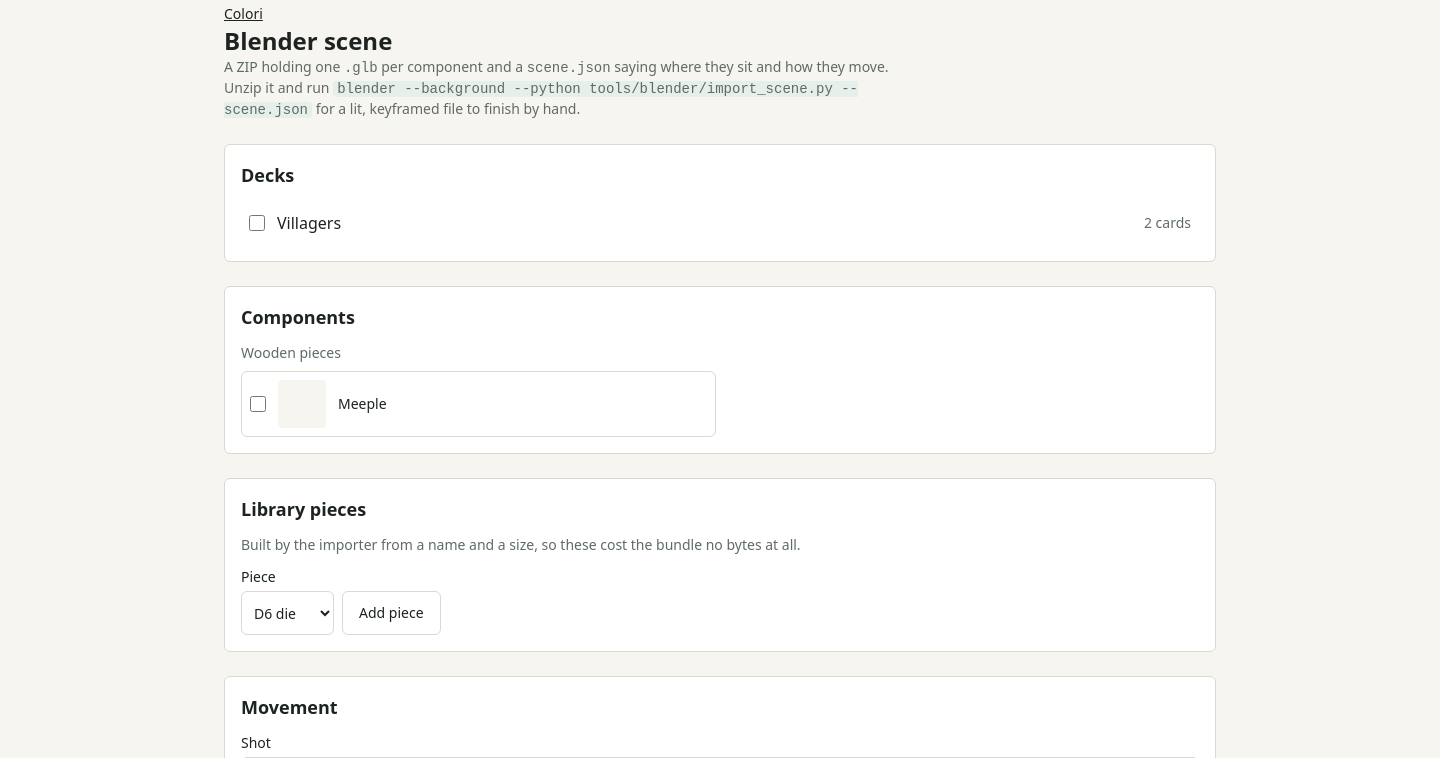
Scene export screen › picks a component by name and counts it
The width and height of the screenshot is (1440, 758).
Click the checkbox labelled "Meeple" at (258, 404), box [250, 396, 266, 412]
(page scrolled)
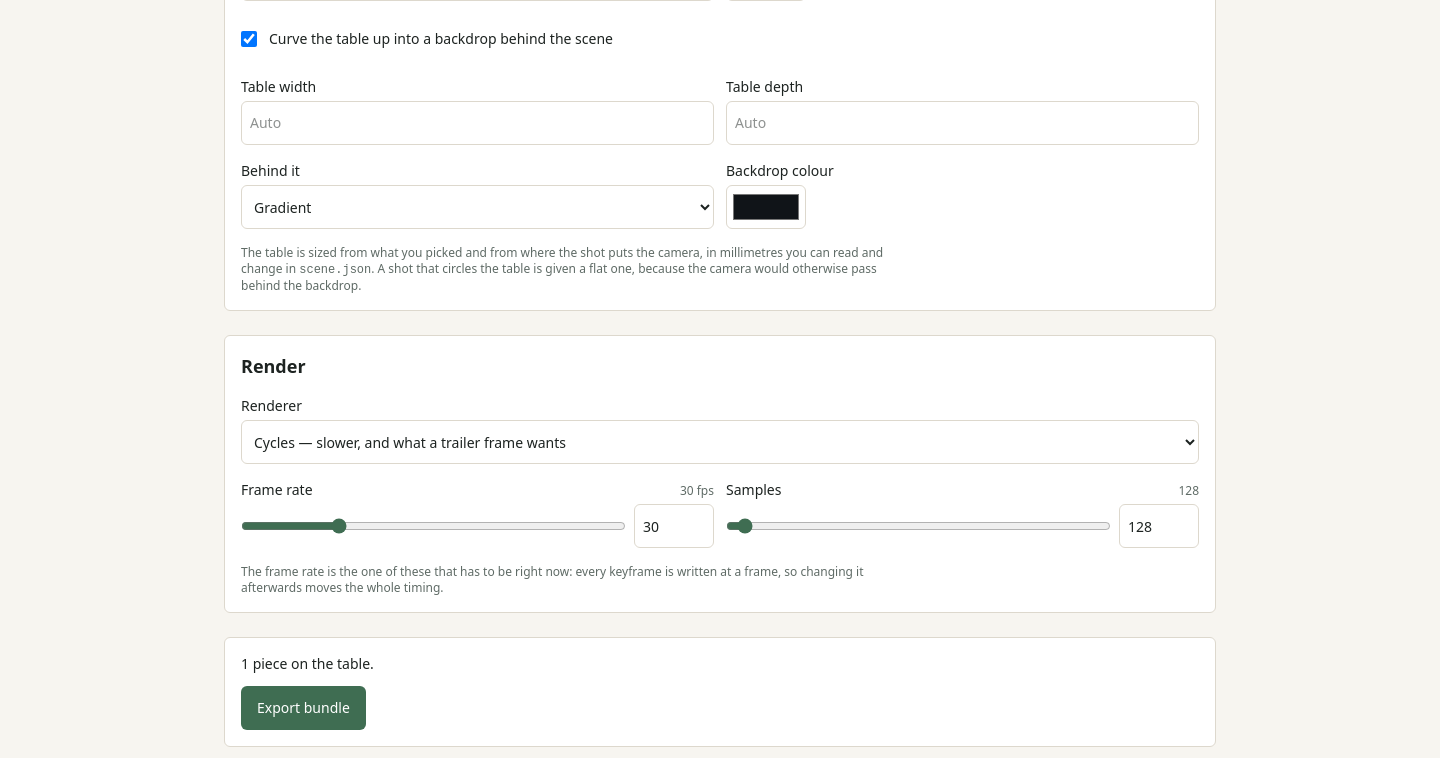
Now the text "1 piece on the table." is shown, box [241, 654, 374, 673]
